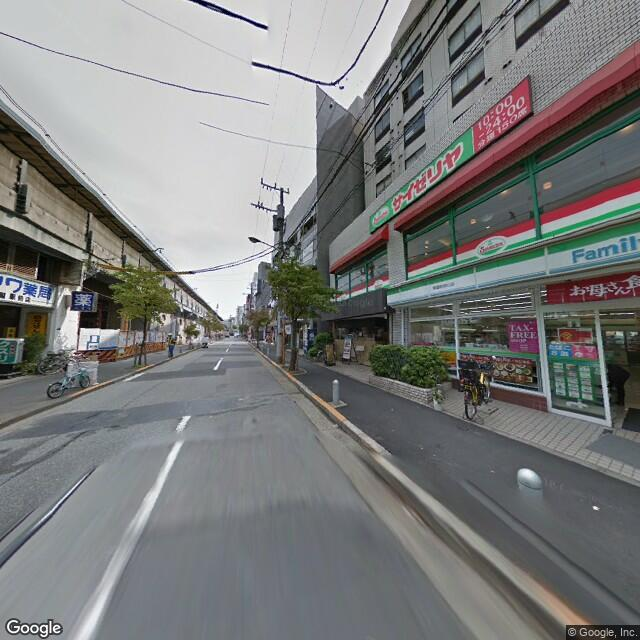family_mart: (387, 216, 639, 306)
